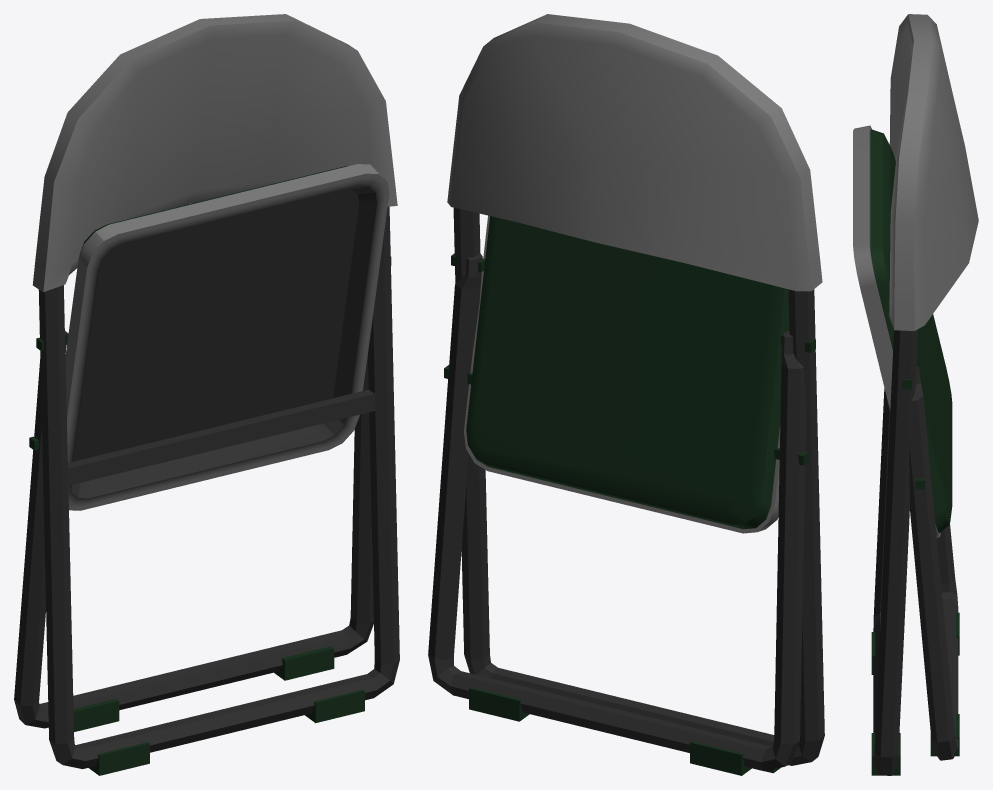
The model's file is foldingChairFolded.fbx.
3 renders of one model, left to right at view 1: azimuth 30°, elevation 25°; view 2: azimuth 150°, elevation 25°; view 3: azimuth 270°, elevation 25°, orthographic. The views are drawn at different scales.
Parts seen in each view (by area): view 1: pCube63; view 2: pCube63; view 3: pCube63.
Boxes of the visible parts, x1,y1,x2,y2 form: pCube63: (14,14,399,775); pCube63: (428,14,824,775); pCube63: (853,14,978,775).
Bounding box in the file's own units: 1.87 × 3.52 × 0.5957.
